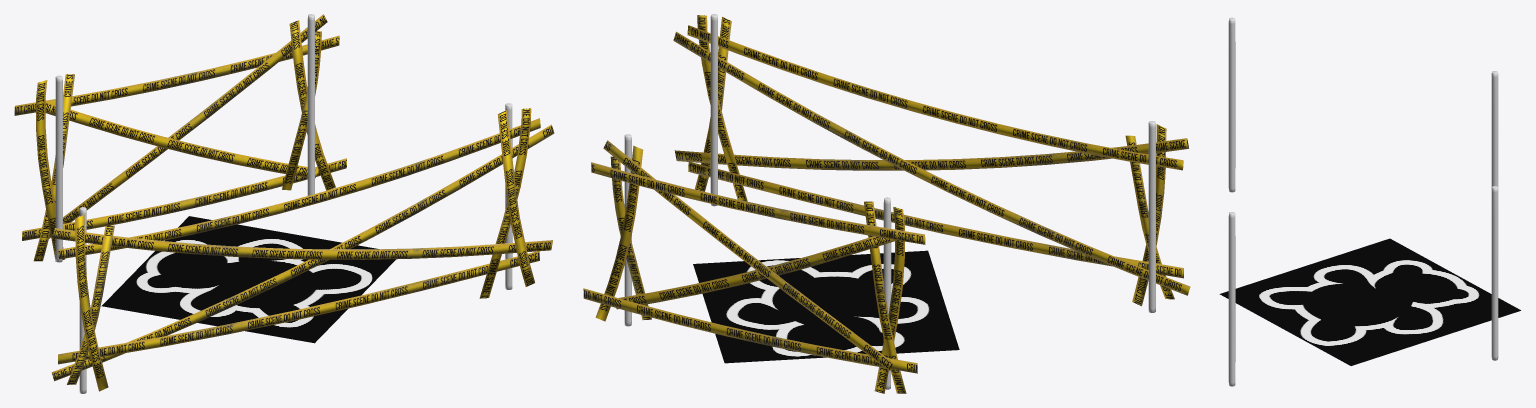
Rendered from CrimeScene.fbx.
The picture shows the model from 3 angles, left to right: view 1: azimuth 30°, elevation 25°; view 2: azimuth 150°, elevation 25°; view 3: azimuth 270°, elevation 25°; orthographic projection. The views are drawn at different scales.
Visible parts, largest first — view 1: CrimeTapeLarge, Plane.002, CrimeTapeMedium, Cylinder.003; view 2: CrimeTapeLarge, CrimeTapeMedium, Plane.002, Cylinder.003; view 3: Plane.002, Cylinder.003.
Part boxes in pixels (bbox=[...]): CrimeTapeLarge: bbox=[51, 108, 554, 391]; Plane.002: bbox=[101, 216, 395, 343]; CrimeTapeMedium: bbox=[14, 14, 346, 261]; Cylinder.003: bbox=[55, 14, 512, 393]; CrimeTapeLarge: bbox=[673, 15, 1190, 306]; CrimeTapeMedium: bbox=[583, 140, 925, 393]; Plane.002: bbox=[693, 250, 959, 363]; Cylinder.003: bbox=[624, 14, 1155, 389]; Plane.002: bbox=[1219, 238, 1520, 365]; Cylinder.003: bbox=[1228, 17, 1498, 386].
Bounding box in the file's own units: 367 × 131 × 205.
